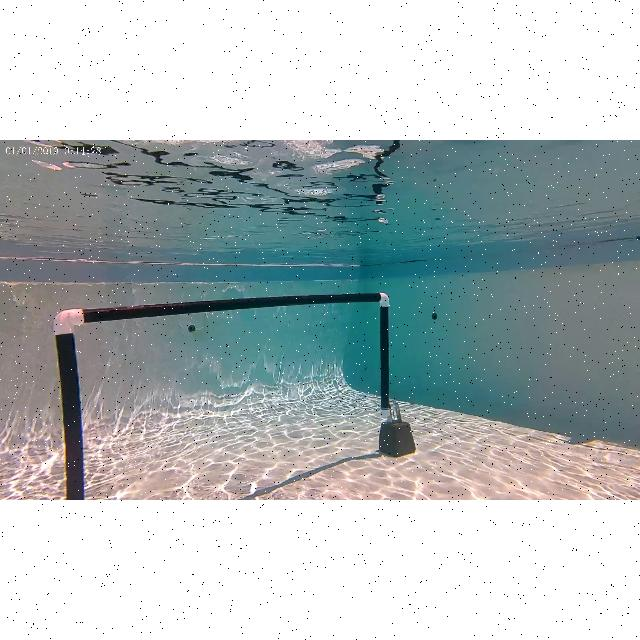prequal gate: (53, 292, 391, 500)
prequal gate leg l: (52, 308, 92, 500)
prequal gate leg r: (368, 288, 418, 458)
